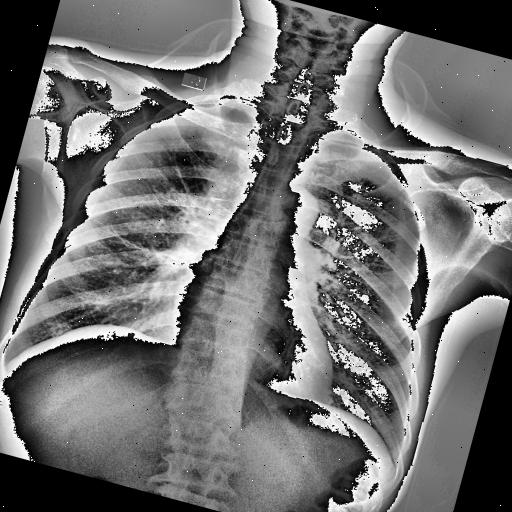13- Pulmonary fibrosis: (93, 222, 189, 268), (148, 148, 202, 200), (98, 224, 170, 262), (100, 220, 154, 254), (160, 156, 198, 198)
